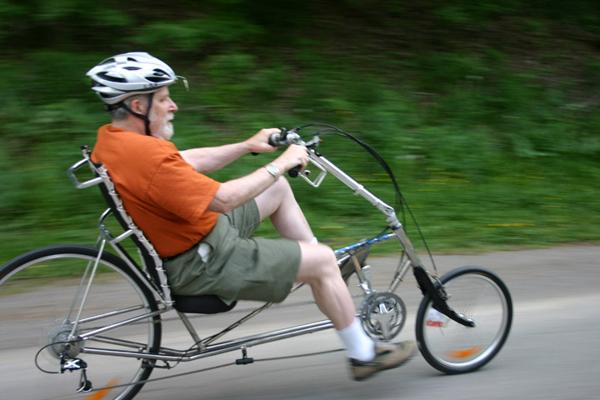person: (87, 50, 424, 383)
